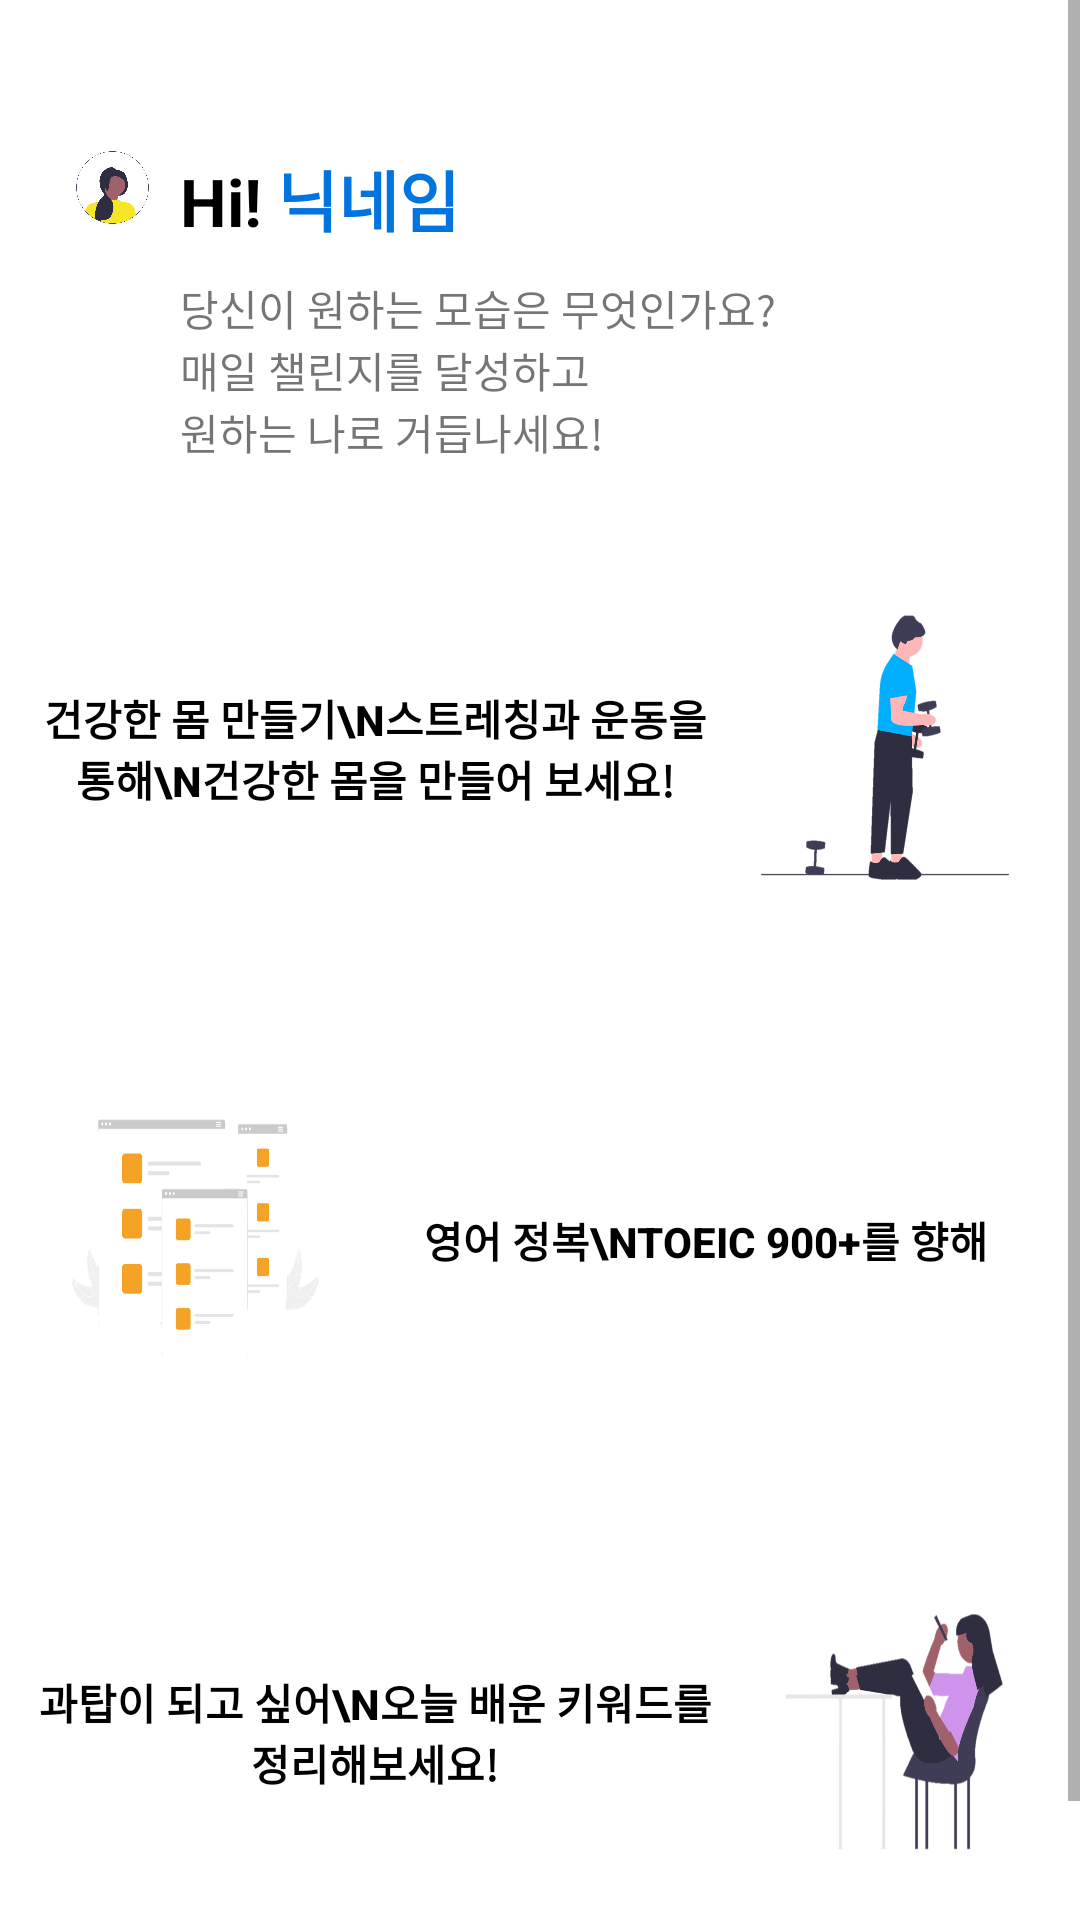

Icon click points for this 1080x1920 phone screenshot, format (x=x, y=y):
profile: (x=112, y=187)
